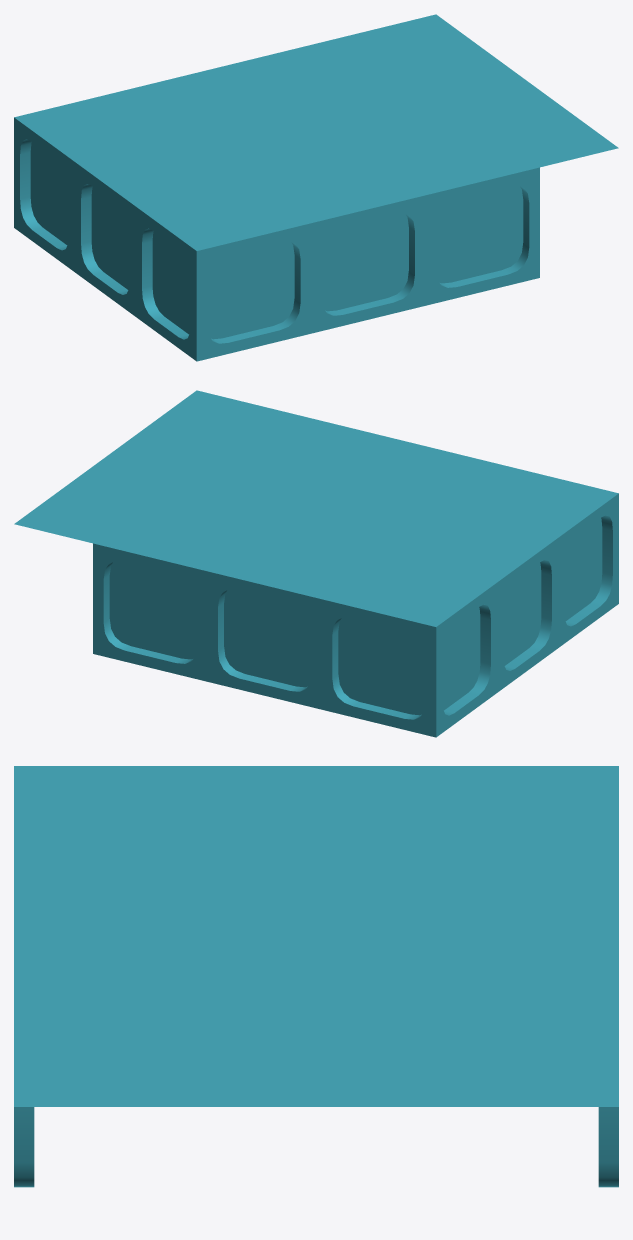
Rendered from Floor_Tranzit_C.FBX.
The picture shows the model from 3 angles, top to bottom: view 1: azimuth 30°, elevation 25°; view 2: azimuth 150°, elevation 25°; view 3: azimuth 270°, elevation 25°; orthographic projection. The views are drawn at different scales.
Visible parts, largest first — view 1: Floor_Tranzit_C; view 2: Floor_Tranzit_C; view 3: Floor_Tranzit_C.
Part boxes in pixels (box(x1,y1,x2,y2)): Floor_Tranzit_C: box(14, 14, 618, 361); Floor_Tranzit_C: box(14, 390, 618, 737); Floor_Tranzit_C: box(14, 766, 618, 1187).
Bounding box in the file's own units: 400 × 100 × 300.
